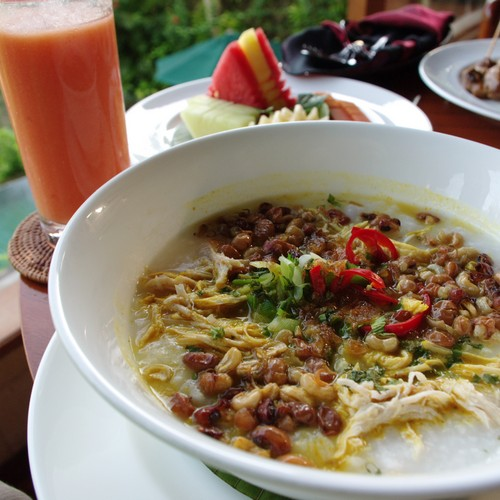bubur mengguh: (132, 177, 493, 465)
